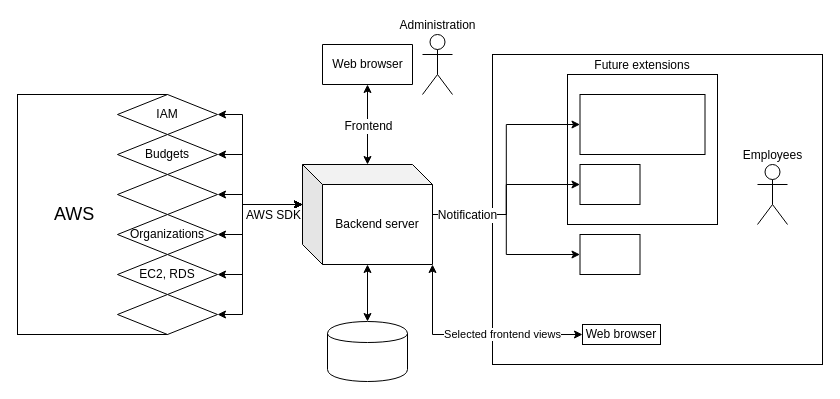
The diagram is 840 pixels wide and 399 high, and some of its shapes have lost their labels. The shapes that lost their labels are listed below. From the top down, each one's centre as x and y in pixels, then its label:
At pixel 642 124: "Other means of communication".
At pixel 167 194: "CostExplorer".
At pixel 609 184: "E-Mail".
At pixel 609 254: "Slack".
At pixel 167 314: "SNS".
At pixel 367 351: "PostgreSQL Database".
